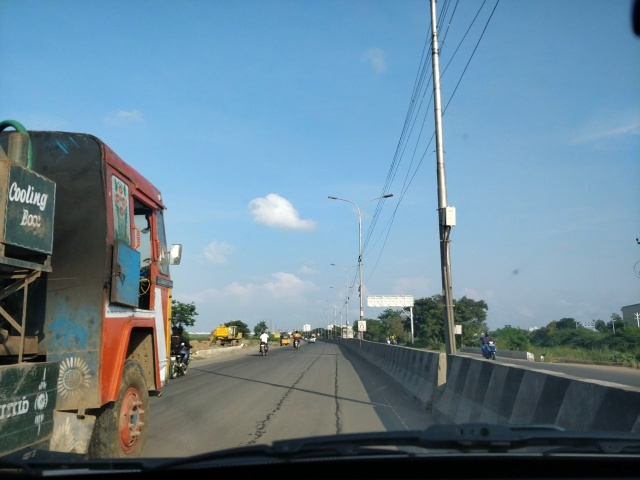auto: (281, 334, 290, 349)
car: (308, 333, 319, 348)
motorbike: (170, 340, 190, 379), (484, 343, 499, 359), (259, 341, 267, 355), (294, 340, 303, 351), (389, 339, 402, 344)
person: (175, 323, 187, 375), (483, 332, 497, 349), (260, 332, 271, 338)
truck: (0, 113, 172, 462), (211, 327, 244, 345)
